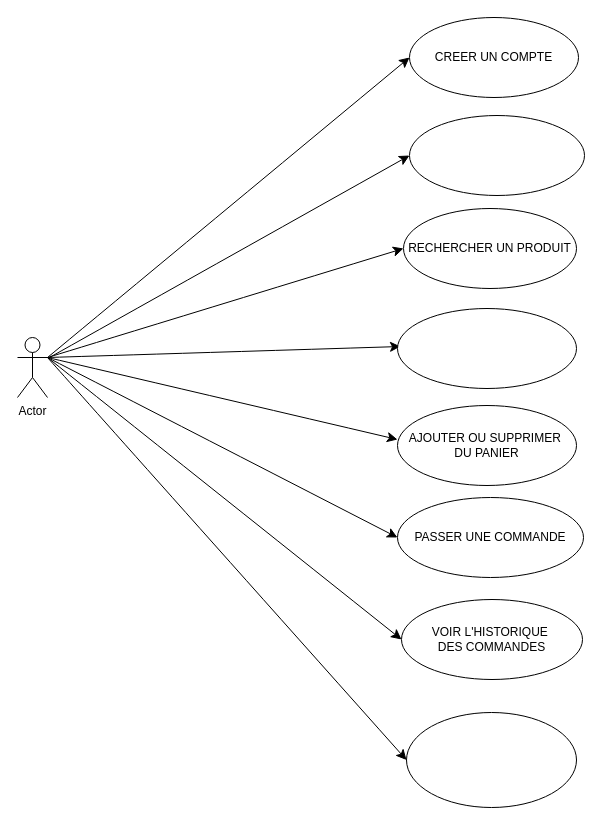
Some shapes in this 604 by 825 pixel diagram are drawn without their labels. The box of each missing label's shape, as (x1, y1, x2, y2) in pixels:
CONSULTER UN PRODUIT: (396, 308, 576, 388)
LAISSER UN AVIS: (406, 712, 576, 808)
SE CONNECTER: (408, 114, 584, 196)
